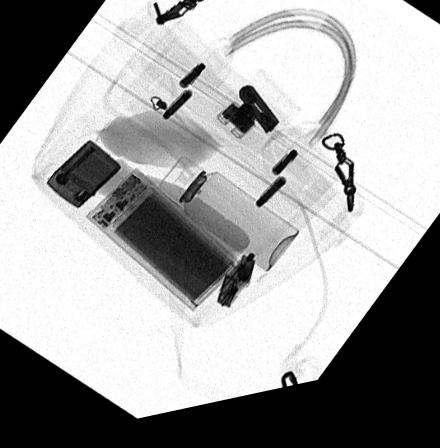Lighter: (44, 141, 122, 213)
Powerbank: (83, 172, 240, 319)
Sprayer: (156, 162, 300, 284)
